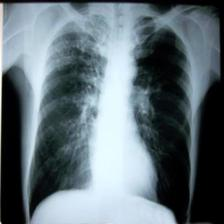tuberculosis: (20, 8, 196, 224)
